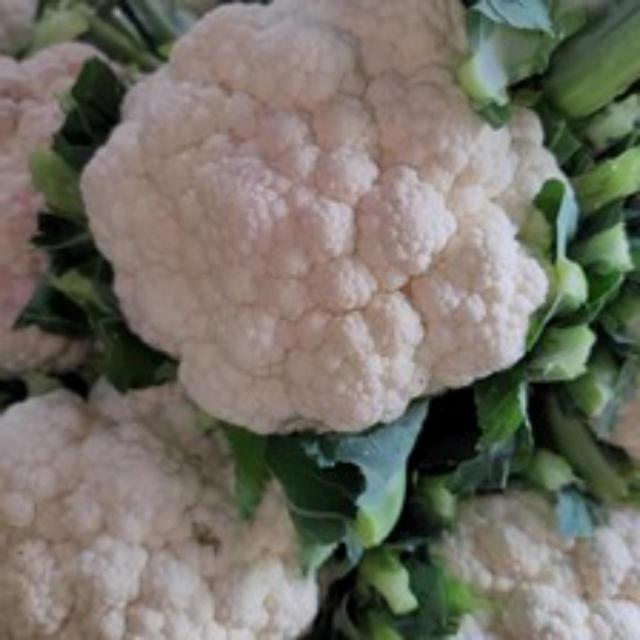cauliflower: (72, 0, 606, 449)
